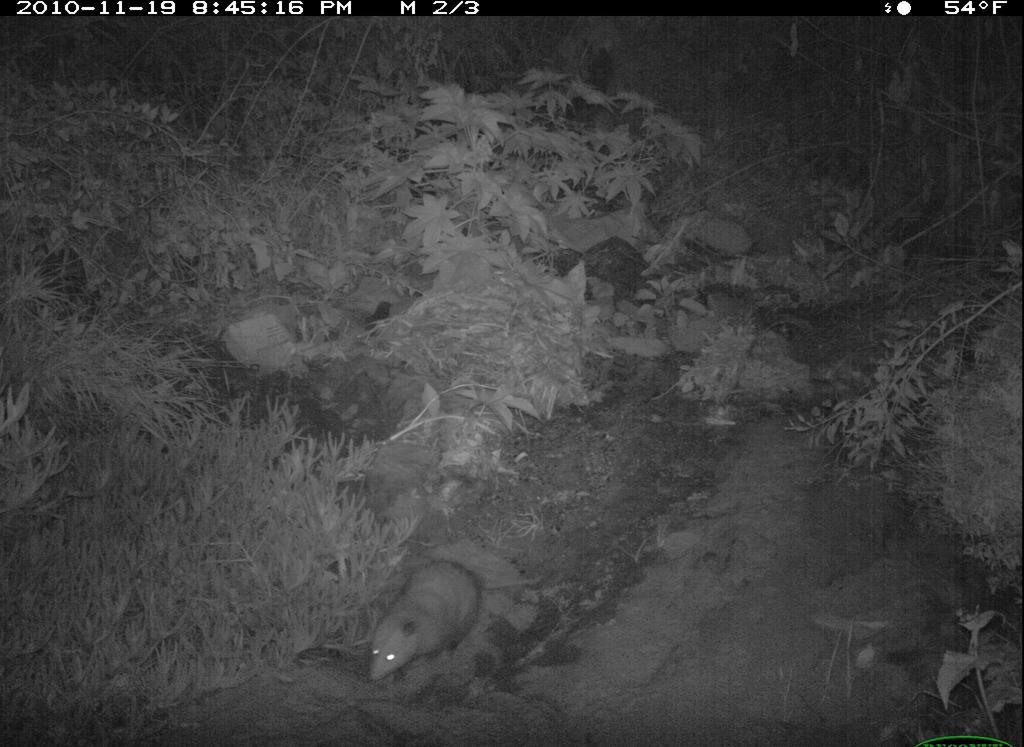opossum: (346, 543, 509, 709)
